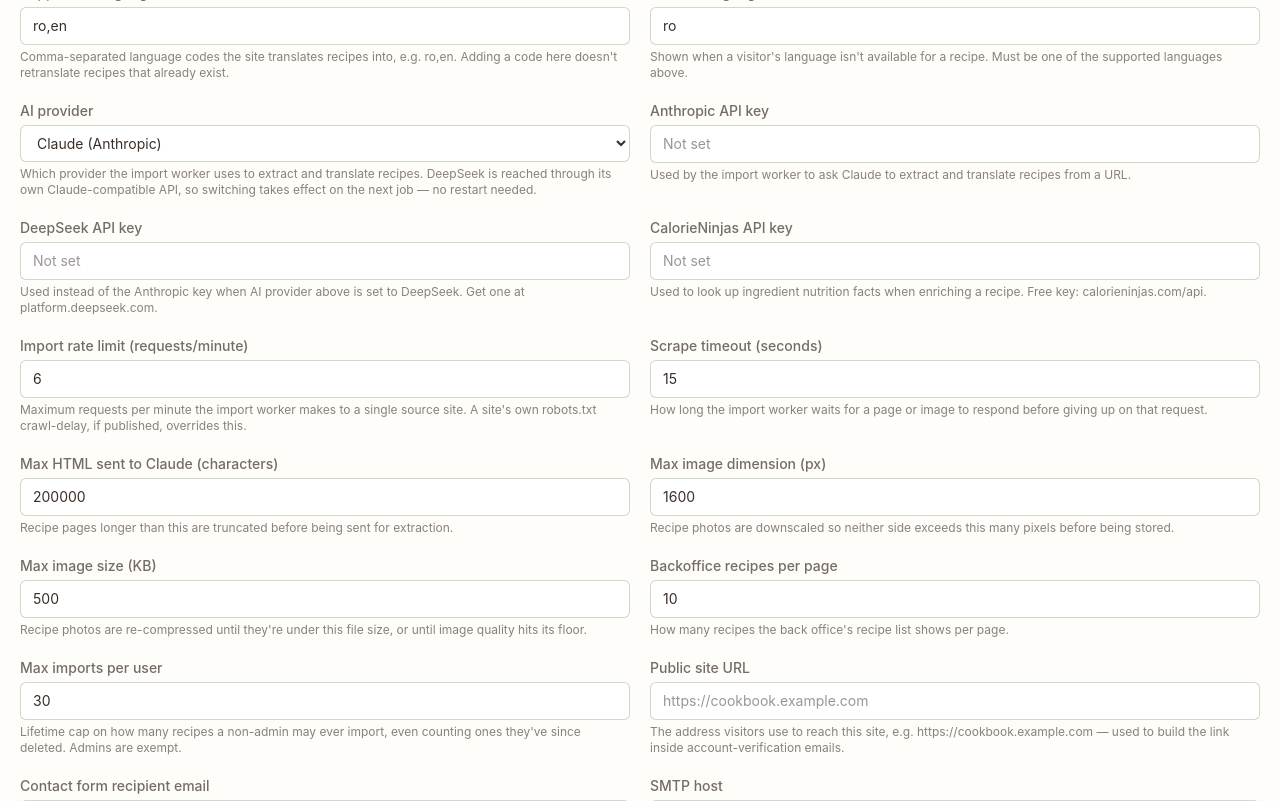
SettingsManager › applies changes without secrets when they're left blank
This screenshot has width=1280, height=801.
Replace the text in the number field labelled "Import rate limit (requests/minute)" with "30". click: (325, 379)
box: [20,360,630,398]
(page scrolled)
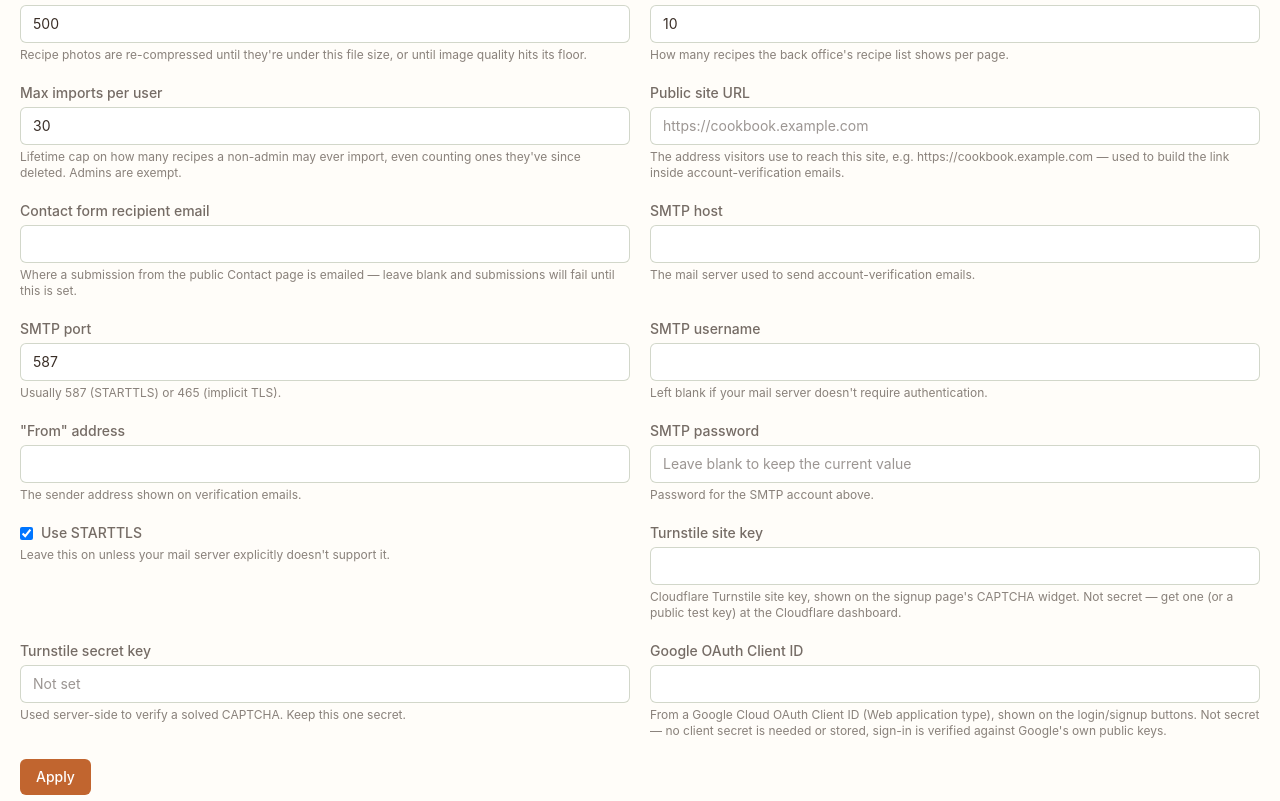
Click the button "Apply". click: (55, 777)
box: [20,759,91,795]
(page scrolled)
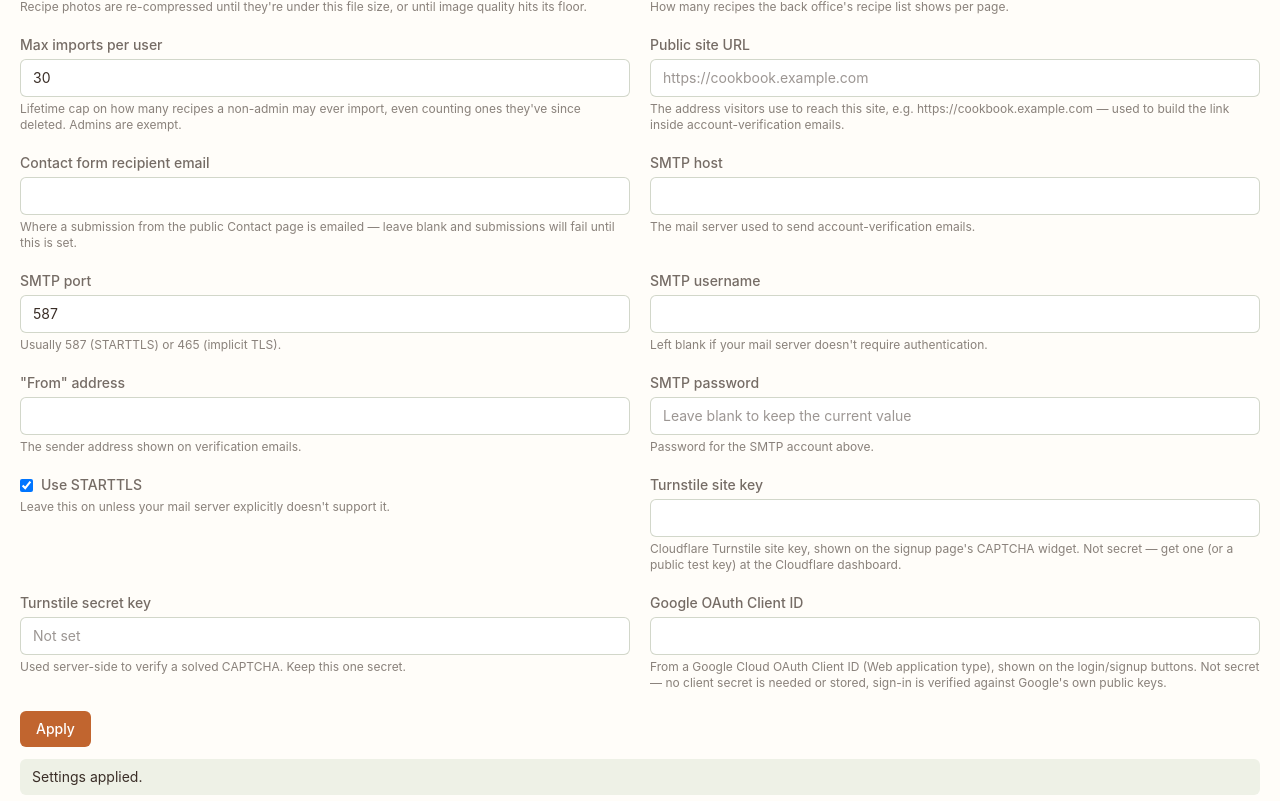
Expected: the text "Settings applied." is shown, [20,759,1260,795]
